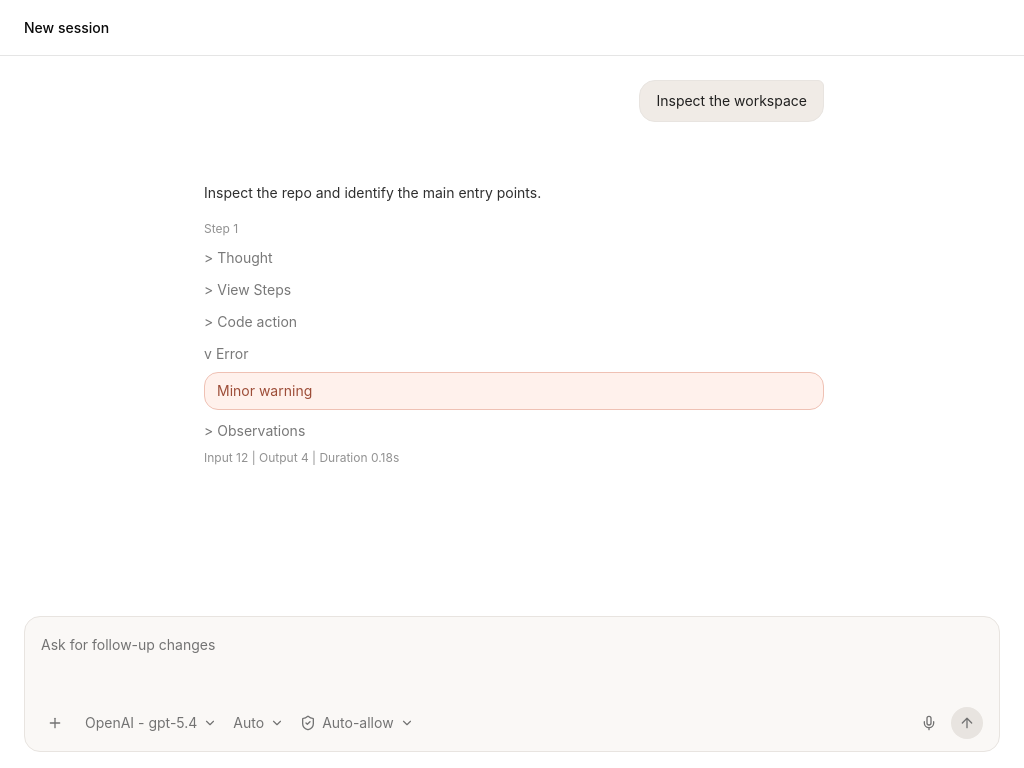
Test: MainContent model selector › renders persisted planning and action entries with action display priority
This screenshot has width=1024, height=768.
Expected: the text "Inspect the repo and identify the main entry points." is shown, [204,184,541,201]
Expected: the text "Step 1" is shown, [204,221,238,236]
Step 1. Click the button "> View Steps" → (248, 290), box [204,280,291,300]
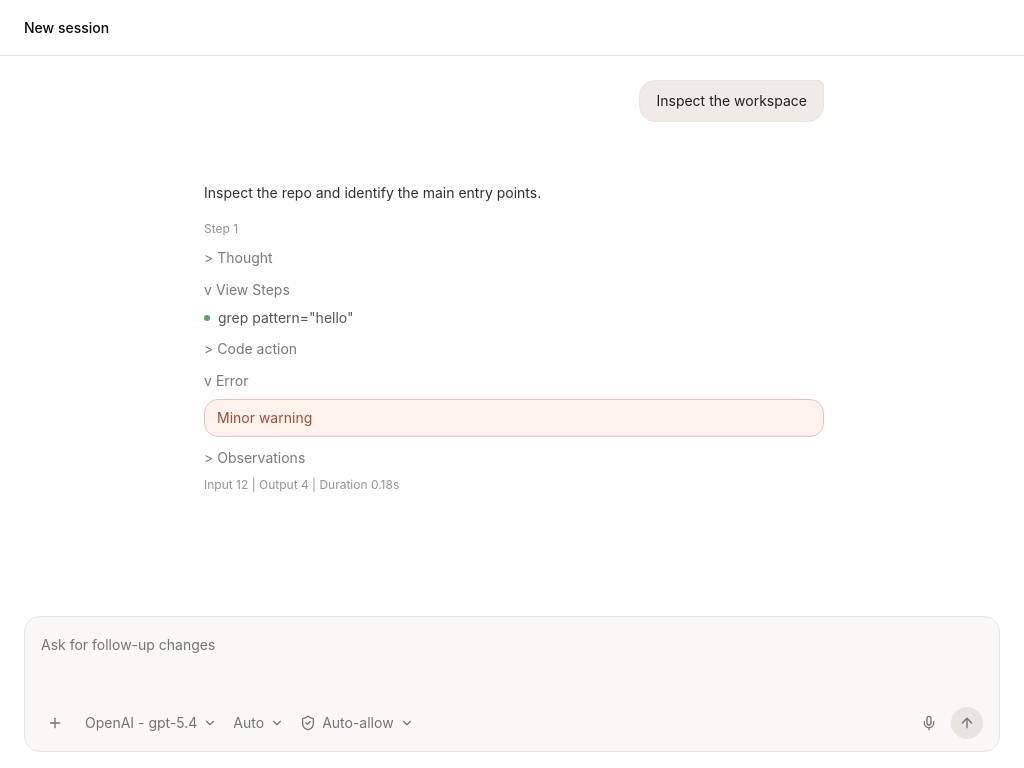
Expected: the text "grep pattern=\"hello\"" is shown, [218,308,354,328]
Step 2. Click the button "> Thought" → (238, 258), box [204,248,273,268]
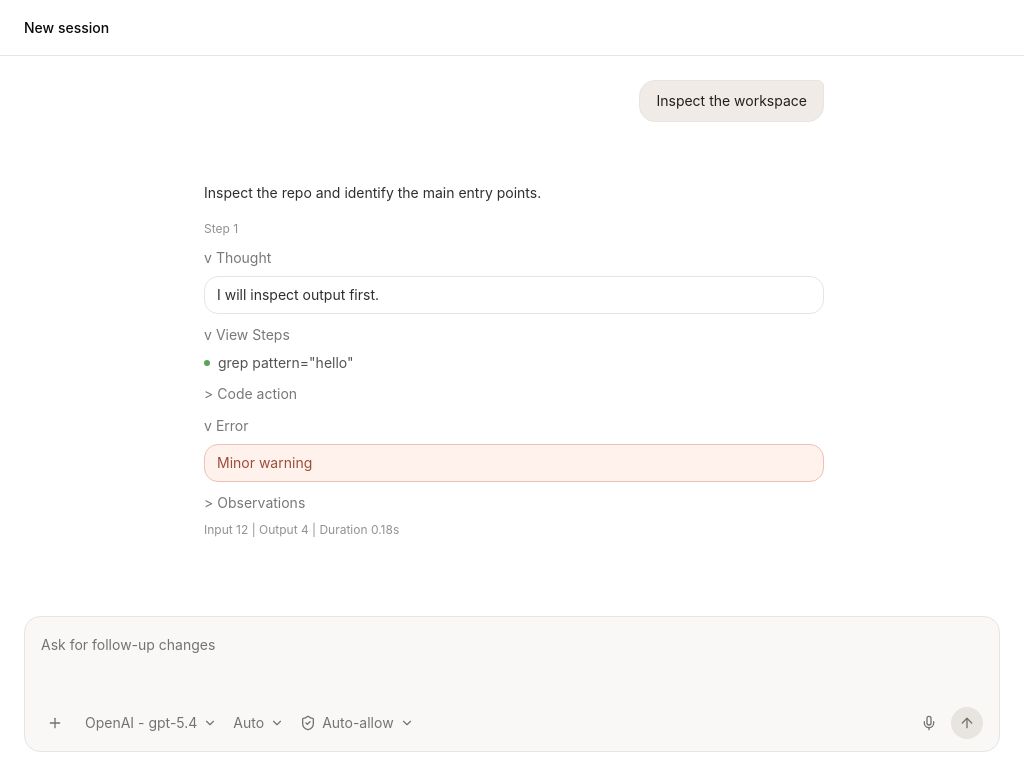
Expected: the text "I will inspect output first." is shown, [217,286,379,303]
Step 3. Click the button "v Thought" → (238, 258), box [204,248,271,268]
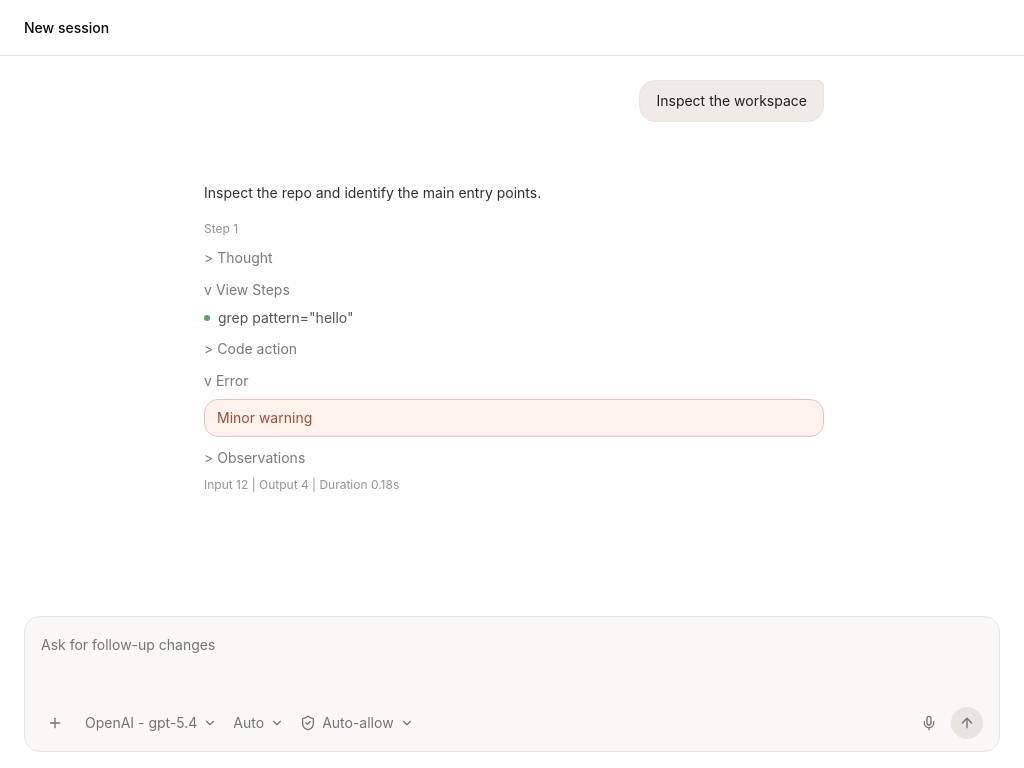
Expected: the text "I will inspect output first." is gone
Step 4. Click the button "> Code action" → (251, 349), box [204,339,297,359]
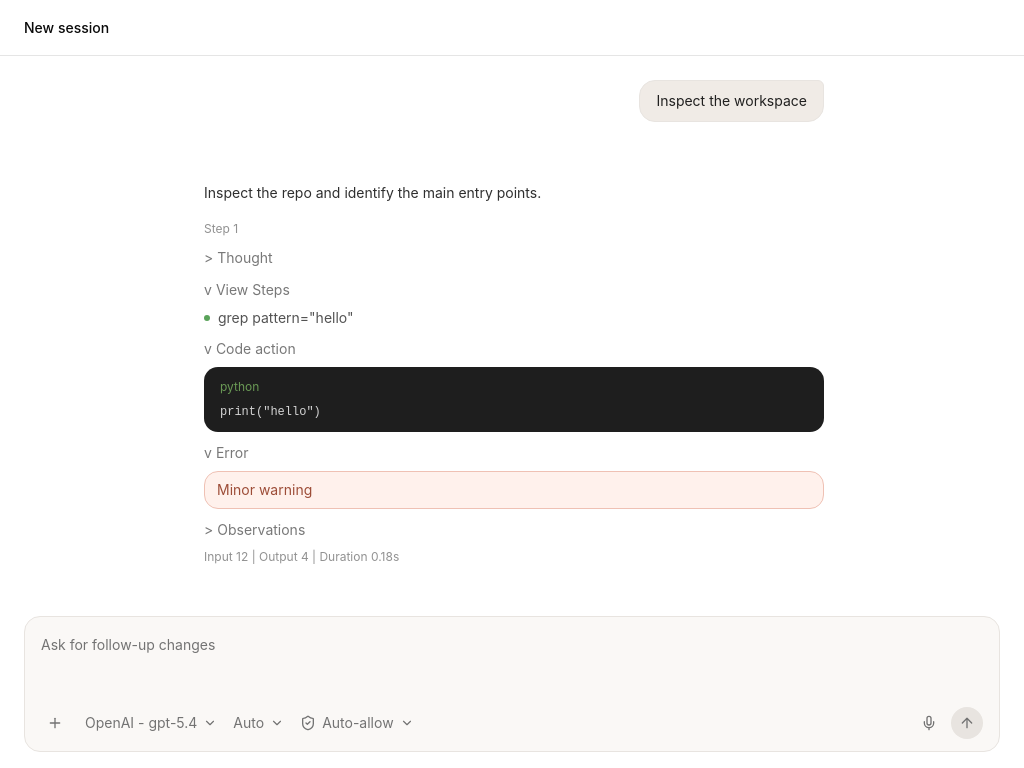
Expected: the text "print(\"hello\")" is shown, [220,405,321,419]
